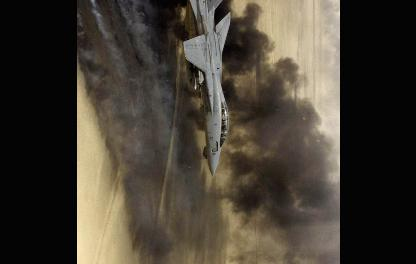EF2000: (183, 0, 240, 178)
